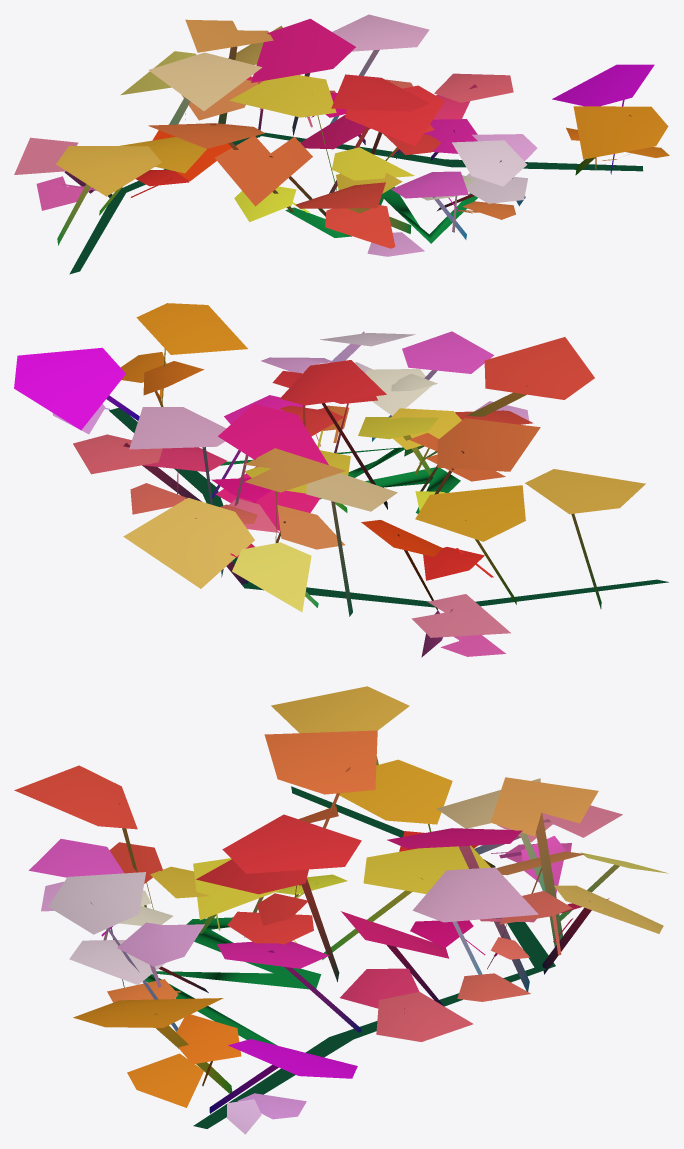
Rendered from English_Ivy_xfcnebhqx_Mid_xfcnebhqx_VarF_LOD2.fbx.
3 views of the same model, one above another, from view 1: azimuth 30°, elevation 25°; view 2: azimuth 150°, elevation 25°; view 3: azimuth 270°, elevation 25° (orthographic). The views are drawn at different scales.
Visible parts, largest first — view 1: _y5td_VarF_LOD4; view 2: _y5td_VarF_LOD4; view 3: _y5td_VarF_LOD4.
Part boxes in pixels (x1,y1,x2,y2): _y5td_VarF_LOD4: (14,14,669,274); _y5td_VarF_LOD4: (14,303,668,657); _y5td_VarF_LOD4: (14,686,668,1134).
Size of the model in its own units: 59.67 by 13.42 by 44.34.
